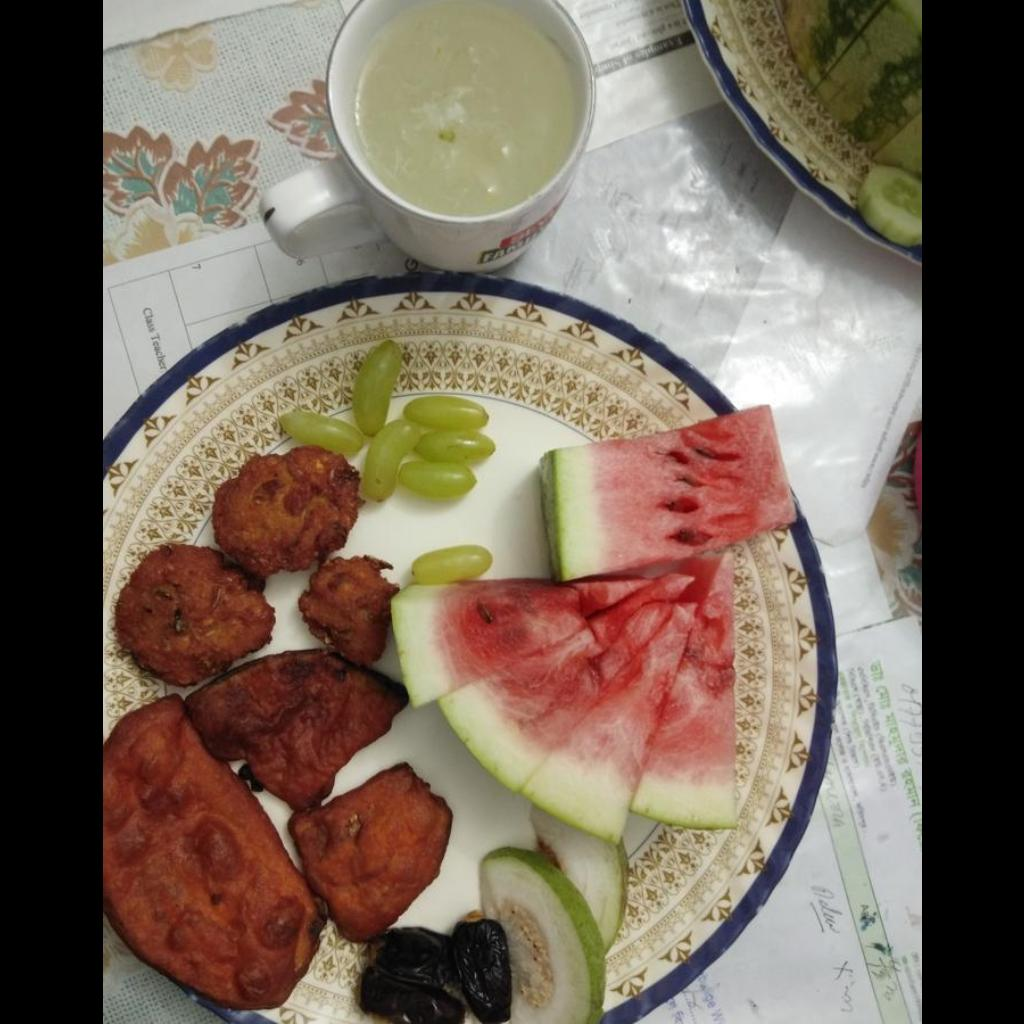beguni: (102, 651, 443, 1001)
cucumber: (857, 165, 920, 246)
dates: (368, 920, 511, 1018)
grapes: (282, 340, 499, 500)
guava: (479, 807, 624, 1023)
juice: (357, 1, 574, 202)
peyaju: (114, 451, 384, 673)
watermelon: (402, 408, 801, 847)
